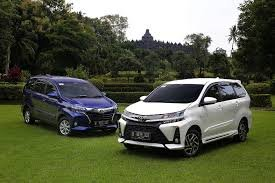mobil: (116, 77, 258, 151), (20, 74, 119, 138)
